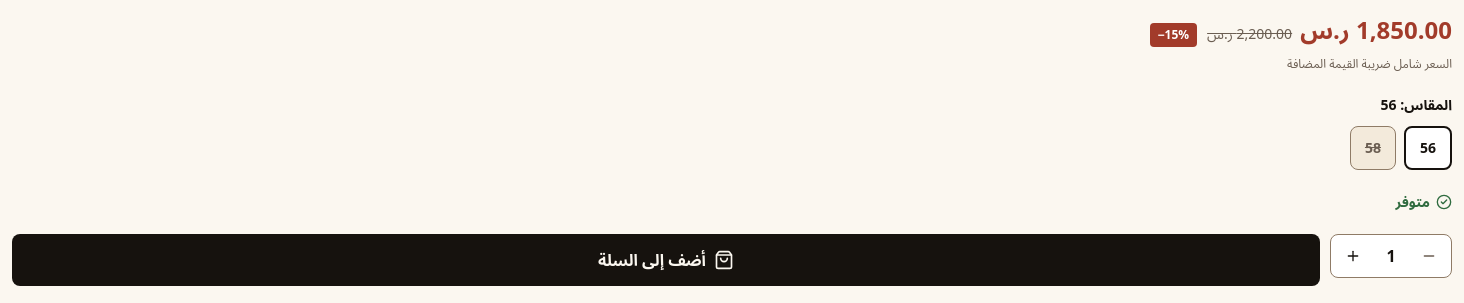
Test: ProductPurchase › the stepper never goes above maxQty from the server
Click the button named "زيادة الكمية".
click(1353, 256)  # box 1331,234 -> 1375,278
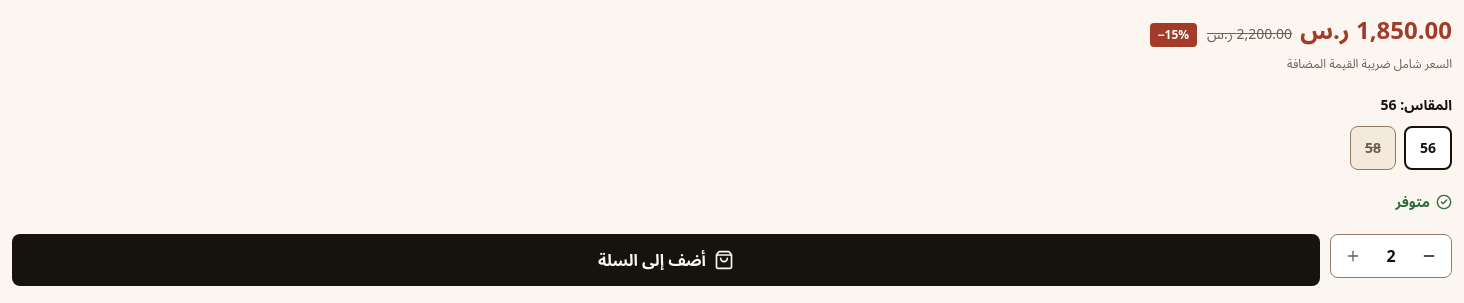
Expected: the button named "زيادة الكمية" is disabled, 1331,234 -> 1375,278
